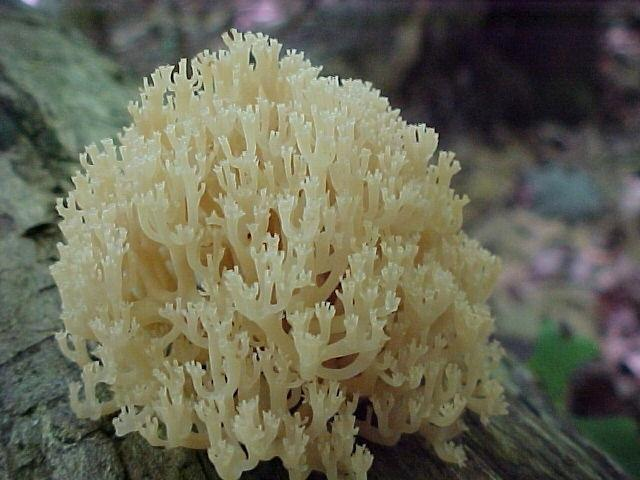edible_mushroom: (47, 27, 511, 477)
